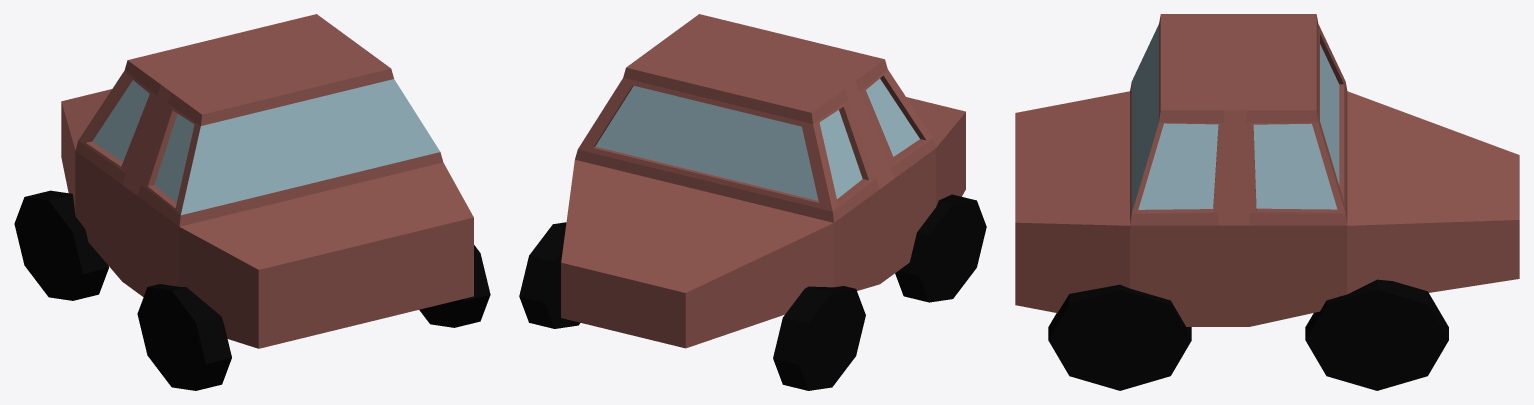
The model's file is SM_Prop_Car01.fbx.
The picture shows the model from 3 angles, left to right: view 1: azimuth 30°, elevation 25°; view 2: azimuth 150°, elevation 25°; view 3: azimuth 270°, elevation 25°; orthographic projection. The views are drawn at different scales.
Visible parts, largest first — view 1: Cube.004; view 2: Cube.004; view 3: Cube.004.
Part boxes in pixels (x1,y1,x2,y2): Cube.004: [14, 14, 490, 390]; Cube.004: [519, 14, 986, 390]; Cube.004: [1015, 14, 1519, 390].
Size of the model in its own units: 904 by 509 by 615.
